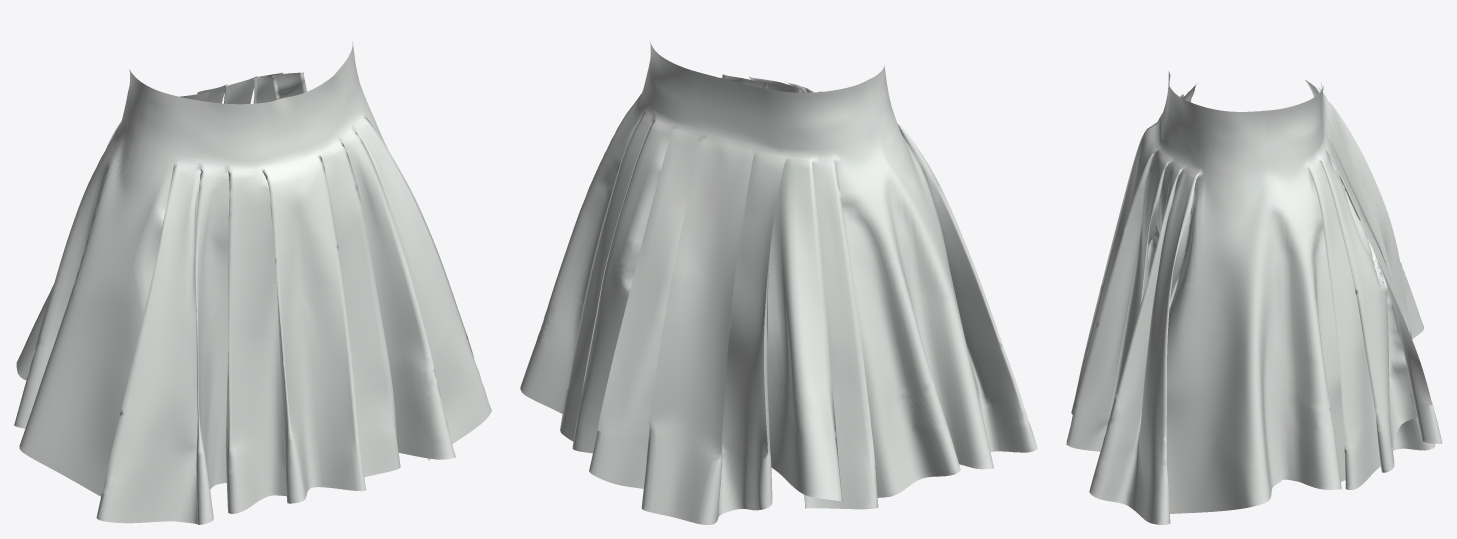
Rendered from pleated-mini-skirt.glb.
3 views of the same model, side by side, from view 1: azimuth 30°, elevation 25°; view 2: azimuth 150°, elevation 25°; view 3: azimuth 270°, elevation 25° (orthographic). The views are drawn at different scales.
Visible parts, largest first — view 1: center-offset; view 2: center-offset; view 3: center-offset.
Boxes of the visible parts, bbox=[...] form: center-offset: bbox=[14, 41, 491, 524]; center-offset: bbox=[520, 41, 1037, 524]; center-offset: bbox=[1066, 71, 1442, 524].
Bounding box in the file's own units: 49.29 × 43.27 × 37.73.
Materials: 1 (1 with a texture image).
